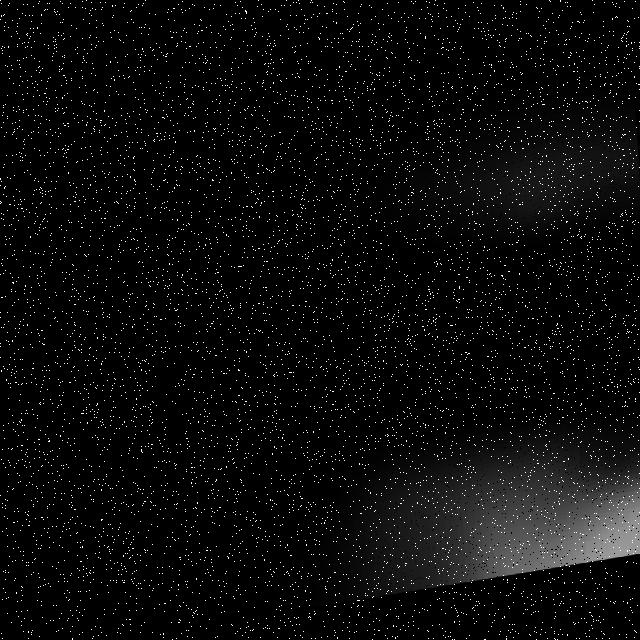person: (318, 61, 640, 301), (268, 418, 640, 618)
